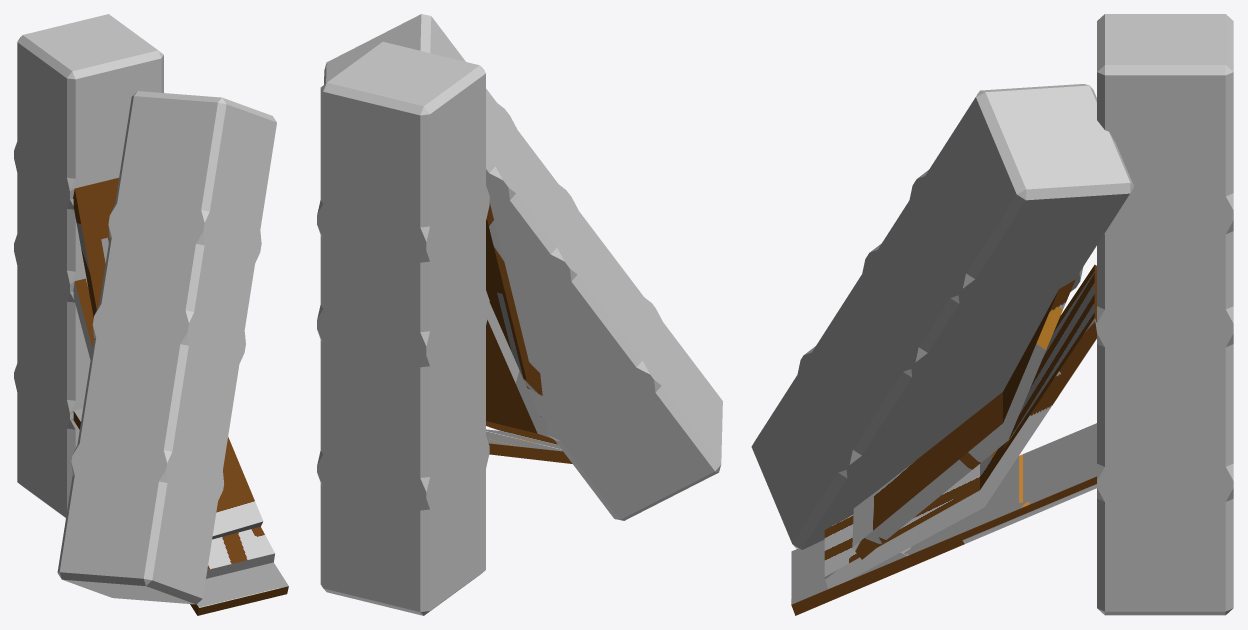
Rendered from shelf_broken.obj.
The picture shows the model from 3 angles, left to right: view 1: azimuth 30°, elevation 25°; view 2: azimuth 150°, elevation 25°; view 3: azimuth 270°, elevation 25°; orthographic projection. The views are drawn at different scales.
Parts seen in each view (by area): view 1: Cube.001, Cube; view 2: Cube, Cube.001; view 3: Cube, Cube.001.
Boxes of the visible parts, box(x1,y1,x2,y2) form: Cube.001: box(57, 91, 276, 604); Cube: box(14, 14, 288, 615); Cube: box(317, 41, 572, 615); Cube.001: box(324, 14, 722, 520); Cube: box(791, 14, 1233, 615); Cube.001: box(751, 84, 1133, 549).
Size of the model in its own units: 5.85 by 8.96 by 7.07.
